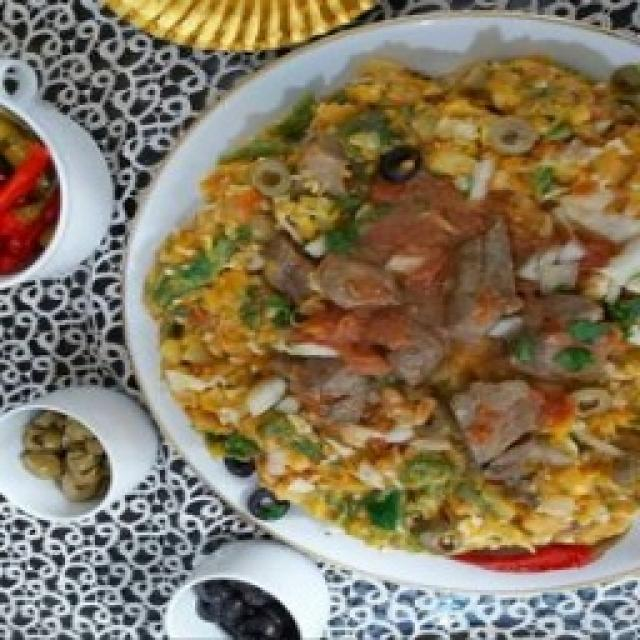Kafteji: (148, 59, 640, 556)
